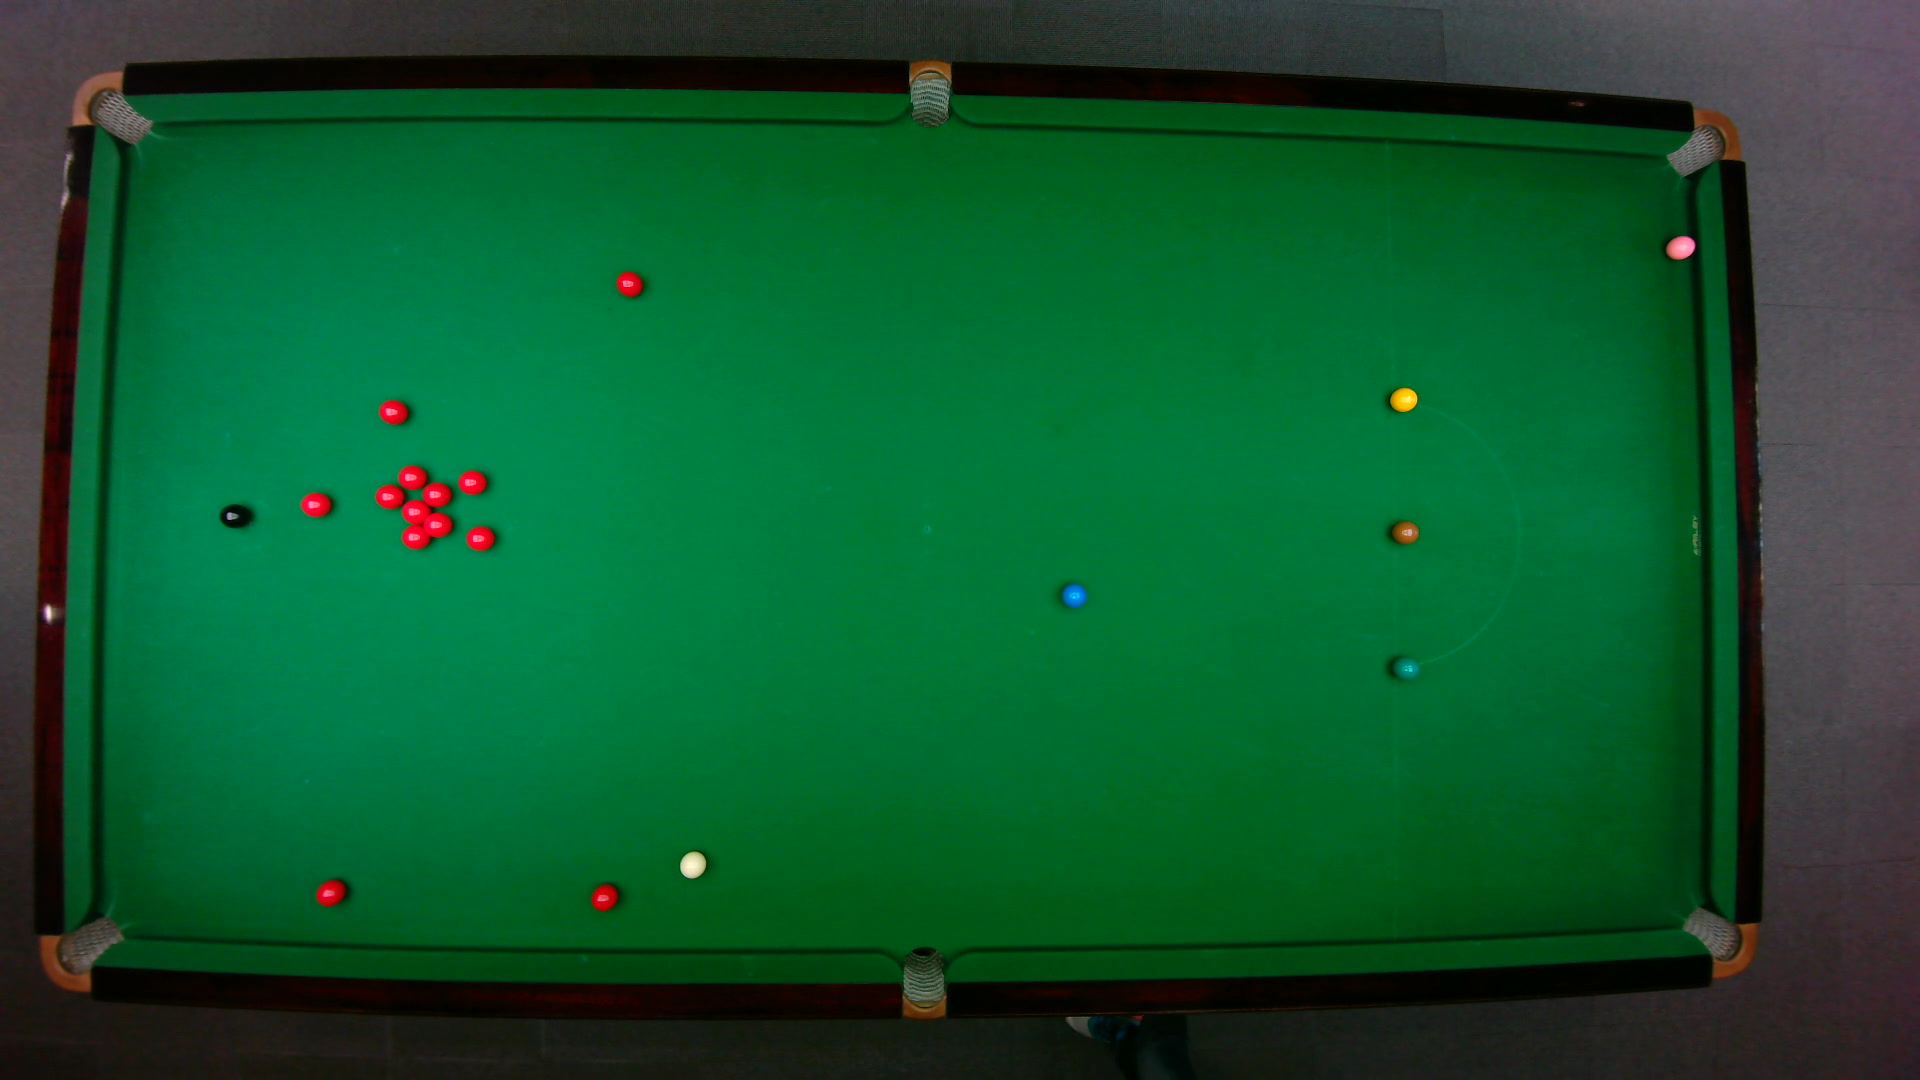bag: (37, 913, 125, 992), (69, 69, 152, 145), (1677, 905, 1756, 978), (1663, 107, 1741, 177), (901, 944, 944, 1021), (909, 57, 949, 128)
black: (218, 502, 251, 527)
blue: (1059, 582, 1087, 608)
brown: (1389, 520, 1419, 545)
green: (1390, 654, 1419, 680)
pink: (1663, 232, 1697, 260)
red: (314, 877, 347, 907), (298, 489, 332, 517), (396, 463, 429, 491), (464, 524, 496, 551), (419, 480, 452, 506), (589, 882, 618, 911), (422, 510, 452, 538), (373, 483, 406, 508), (615, 269, 644, 297), (377, 398, 407, 425), (400, 524, 430, 550), (456, 468, 487, 495), (400, 497, 429, 524)
white: (676, 849, 707, 880)
yellow: (1387, 385, 1418, 411)
zone: (1389, 400, 1519, 666)
